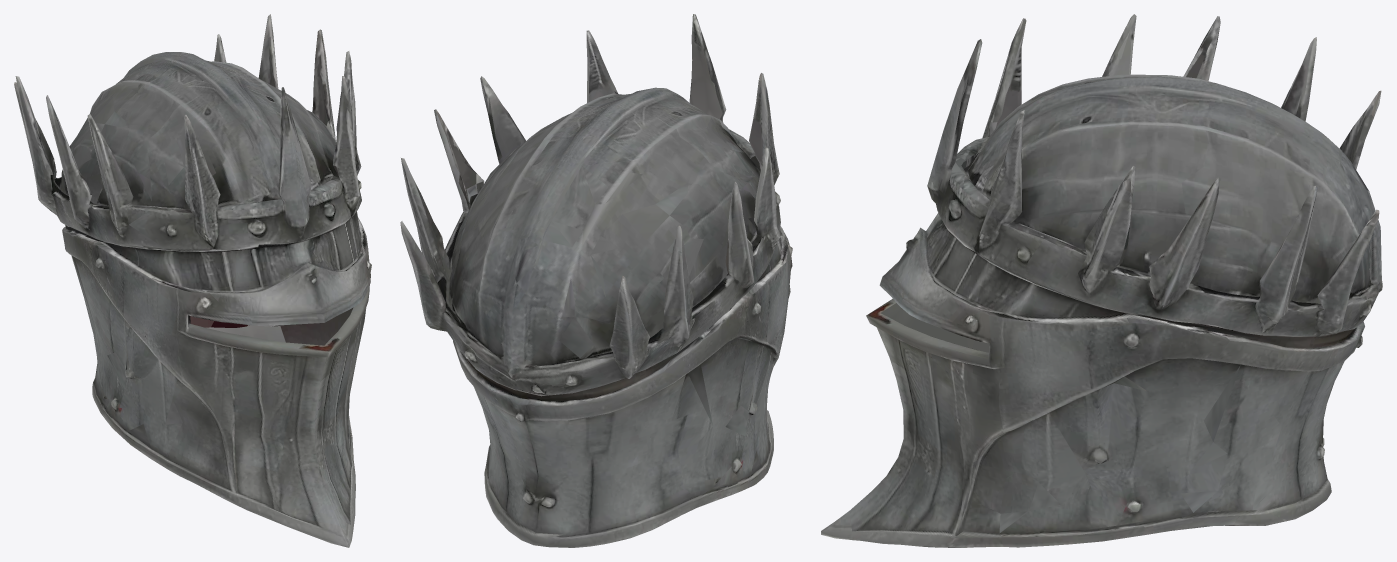
The model's file is helm_t4_ashen.glb.
3 renders of one model, left to right at view 1: azimuth 30°, elevation 25°; view 2: azimuth 150°, elevation 25°; view 3: azimuth 270°, elevation 25°, orthographic. The views are drawn at different scales.
Parts seen in each view (by area): view 1: HelmT4Ashen; view 2: HelmT4Ashen; view 3: HelmT4Ashen.
Part boxes in pixels (left/top/right/bottom): HelmT4Ashen: left=14, top=14, right=371, bottom=547; HelmT4Ashen: left=400, top=14, right=792, bottom=547; HelmT4Ashen: left=821, top=14, right=1382, bottom=547.
Bounding box in the file's own units: 0.2468 × 0.352 × 0.3617.
1 material, 1 textured.
